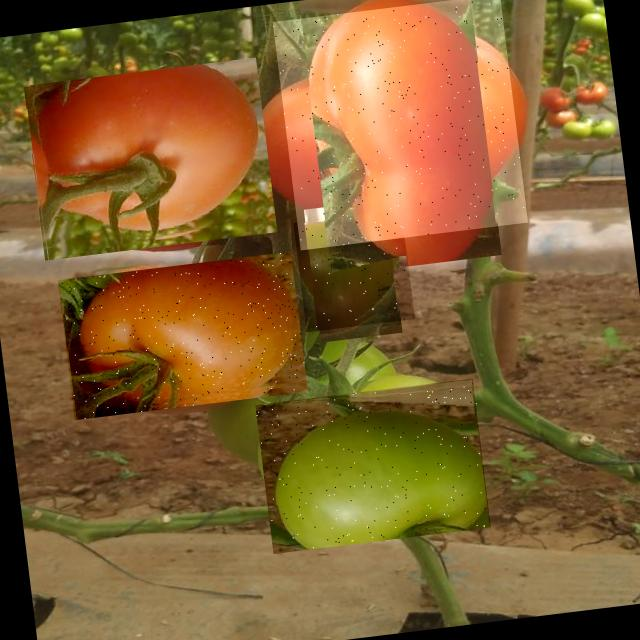Ripe Tomato: (272, 0, 527, 250), (22, 57, 277, 260), (58, 251, 308, 420)
Unripe Tomato: (255, 378, 494, 554), (292, 210, 414, 332)
